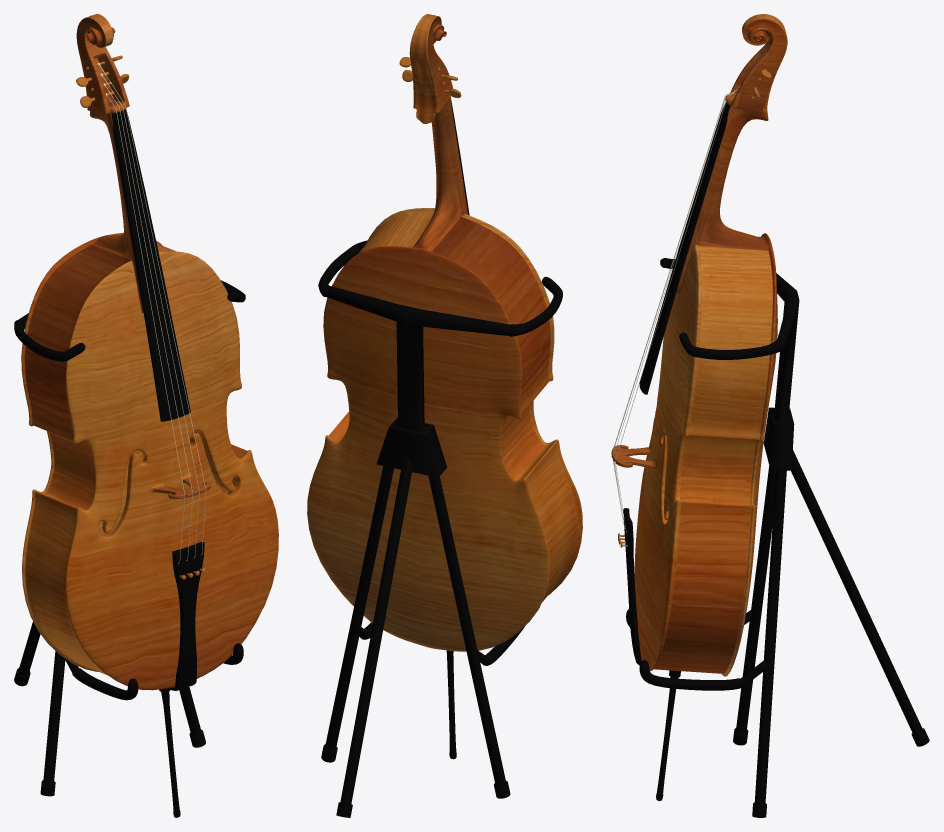
File: Violin-Cheloo.obj
3 views of the same model, side by side, from view 1: azimuth 30°, elevation 25°; view 2: azimuth 150°, elevation 25°; view 3: azimuth 270°, elevation 25° (orthographic). The views are drawn at different scales.
Visible parts, largest first — view 1: polySurface35; view 2: polySurface35; view 3: polySurface35.
Boxes of the visible parts, x1,y1,x2,y2 form: polySurface35: (14,14,278,817); polySurface35: (307,14,582,817); polySurface35: (611,14,929,817).
Bounding box in the file's own units: 1.33 × 4.24 × 1.59.
Materials: 3 (1 with a texture image).
